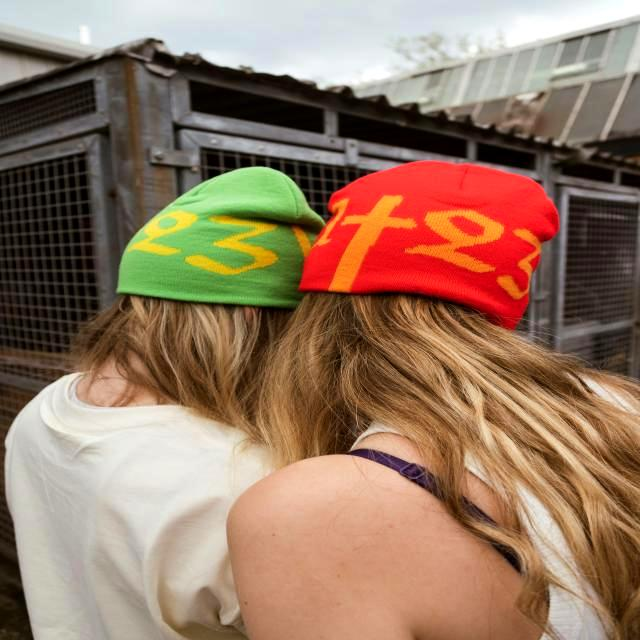no_hard_hat: (345, 161, 559, 330), (117, 167, 325, 310)
person: (0, 165, 329, 639), (230, 293, 640, 640), (521, 488, 607, 640)
